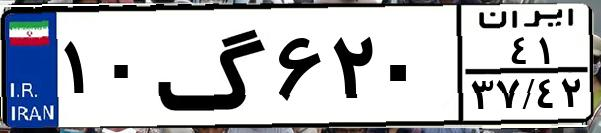0: (385, 28, 445, 110), (110, 28, 156, 98)
1: (57, 26, 110, 100), (537, 27, 568, 80)
2: (330, 28, 385, 110), (560, 70, 590, 125)
3: (470, 70, 495, 125)
4: (508, 27, 537, 80), (535, 70, 560, 125)
6: (270, 28, 330, 110)
7: (495, 70, 520, 125)
گ: (156, 12, 270, 120)
